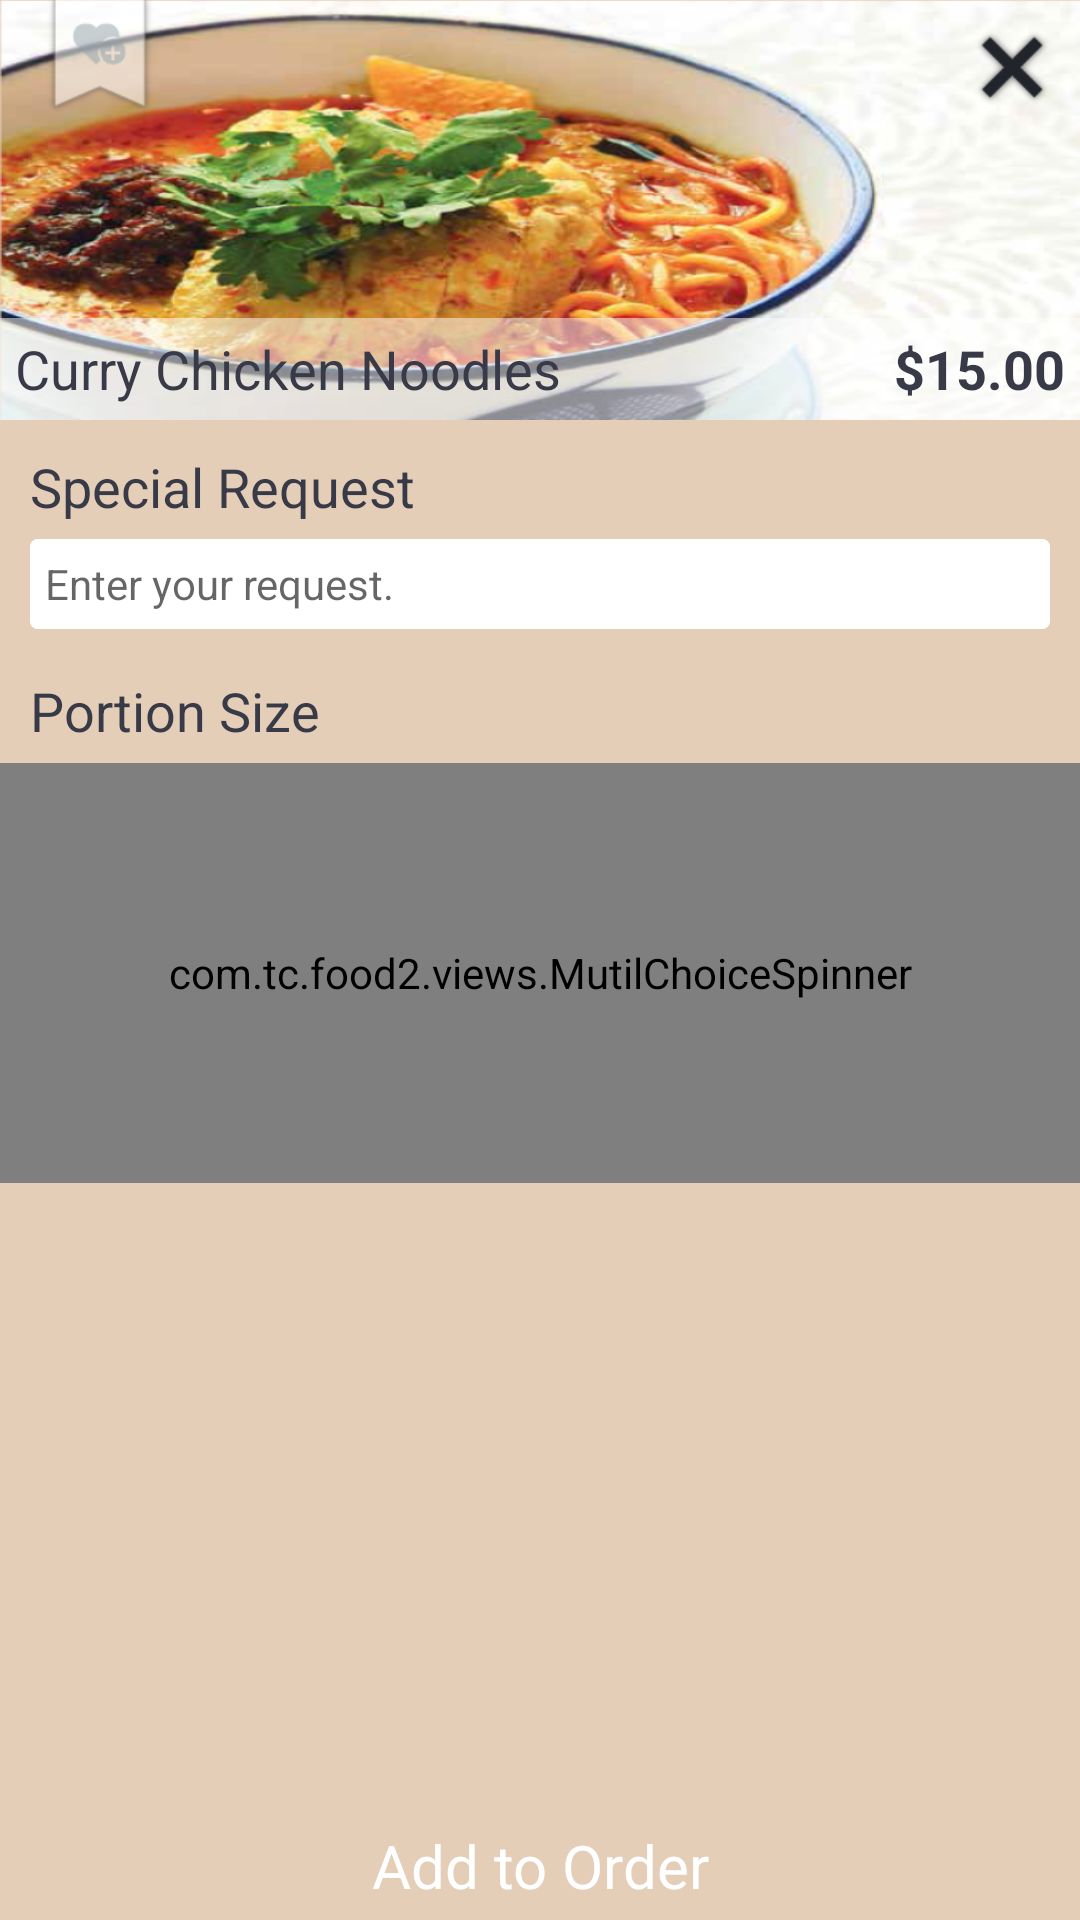

Icon click points for this 1080*1920 phone screenshot, format [x,y]:
closeicon: [1013,68]
favor: [100,58]
